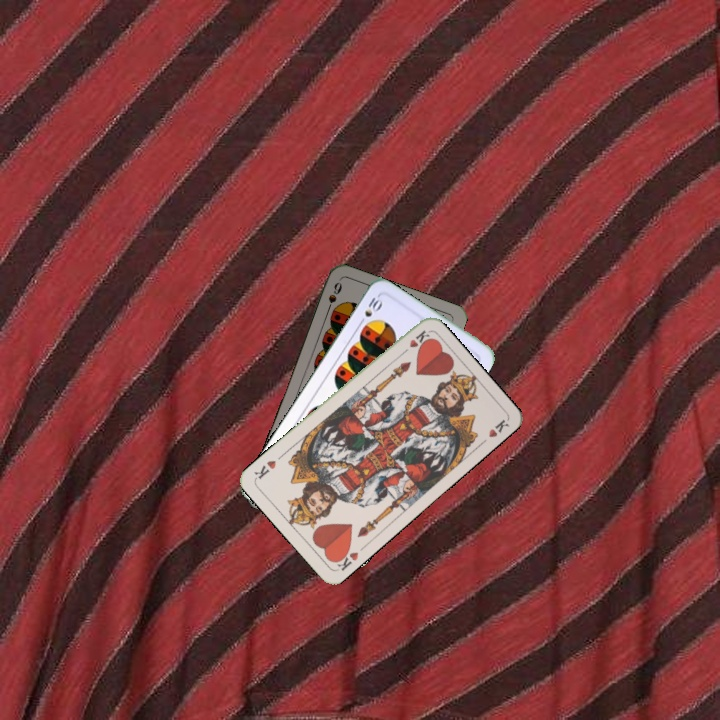HK: (396, 326, 432, 358), (329, 544, 361, 573)
S10: (355, 293, 385, 328)
S9: (322, 278, 345, 317)
